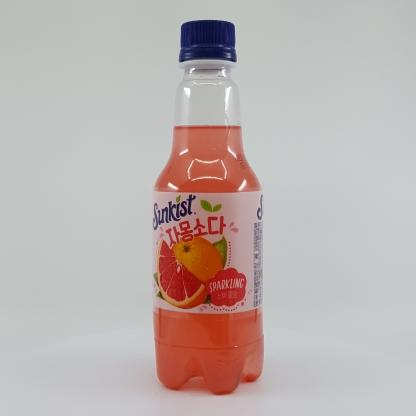----------350ML-PET-: (152, 20, 264, 394)
